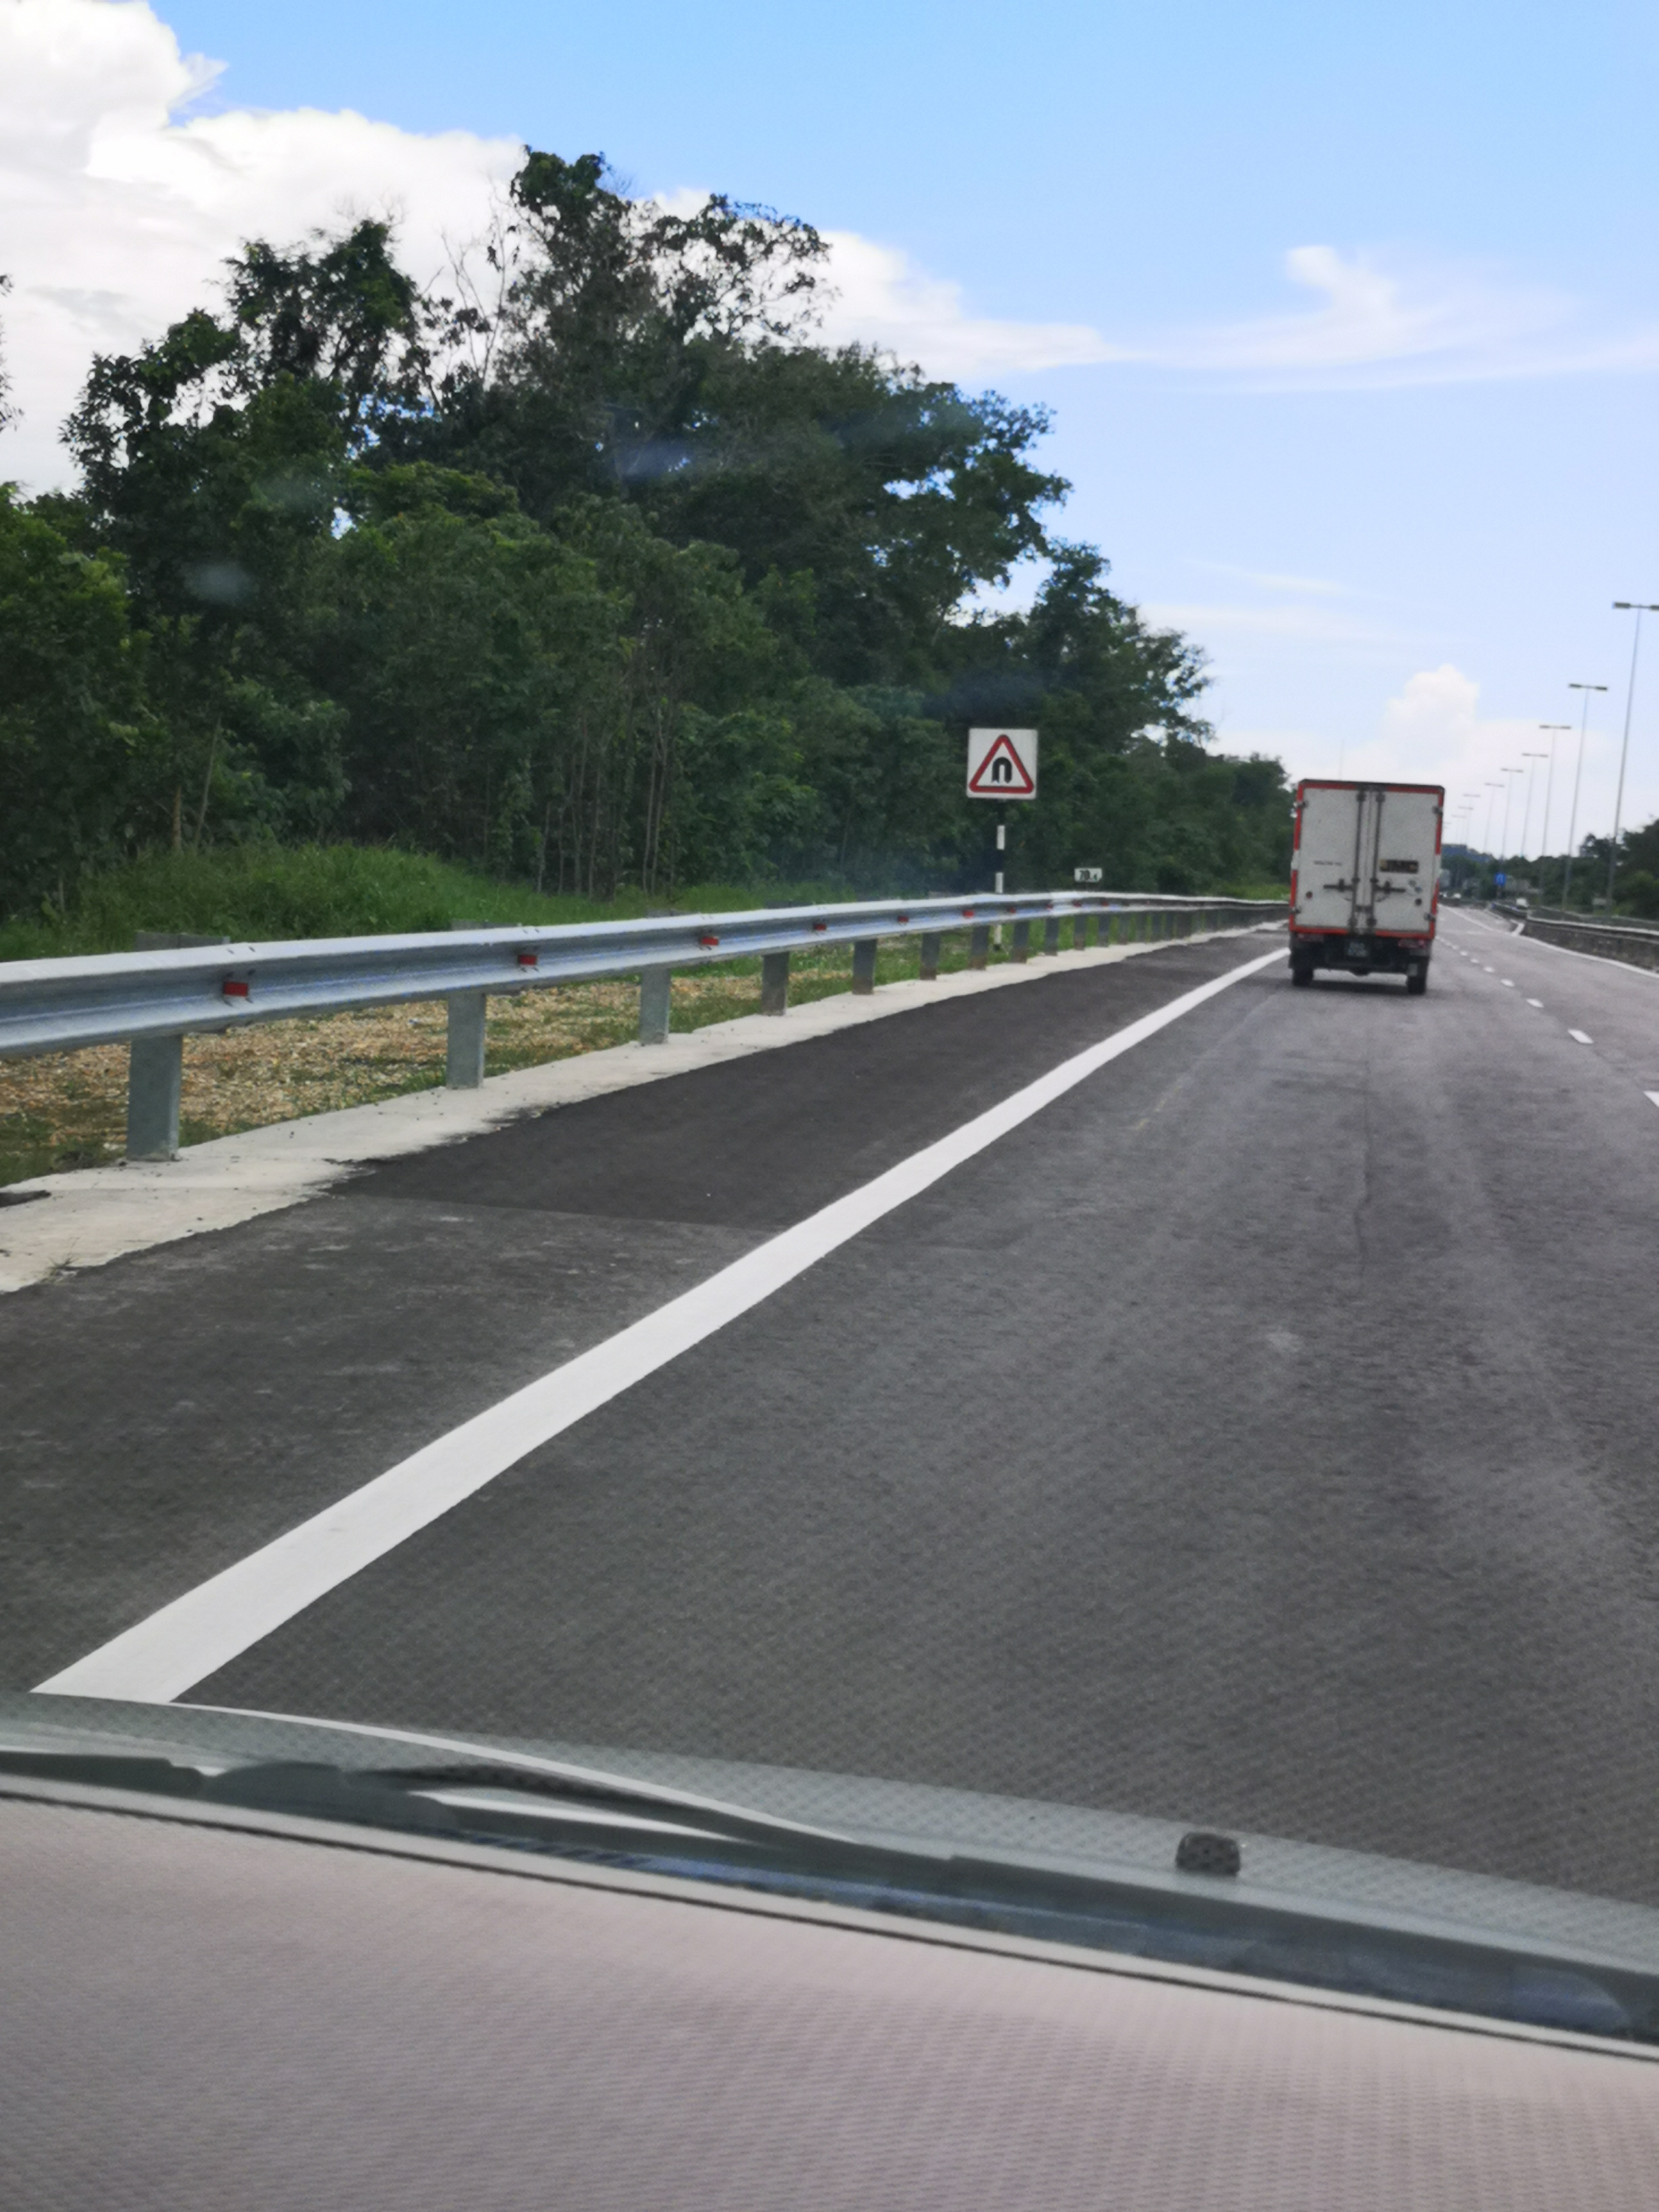U-turn: (962, 725, 1042, 808)
